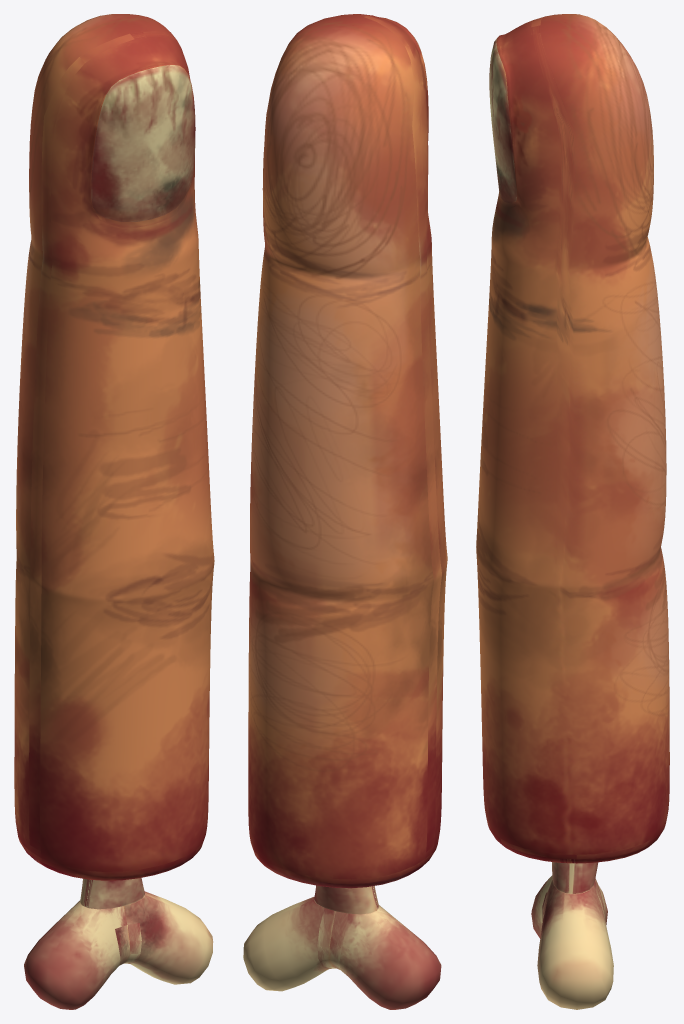
The model's file is choppedFinger.fbx.
3 views of the same model, side by side, from view 1: azimuth 30°, elevation 25°; view 2: azimuth 150°, elevation 25°; view 3: azimuth 270°, elevation 25° (orthographic). The views are drawn at different scales.
Visible parts, largest first — view 1: Cube.003; view 2: Cube.003; view 3: Cube.003.
Boxes of the visible parts, left/top/right/bottom form: Cube.003: left=14, top=14, right=214, bottom=1009; Cube.003: left=243, top=14, right=447, bottom=1009; Cube.003: left=476, top=14, right=669, bottom=1009.
Bounding box in the file's own units: 57.91 × 297 × 54.72.
